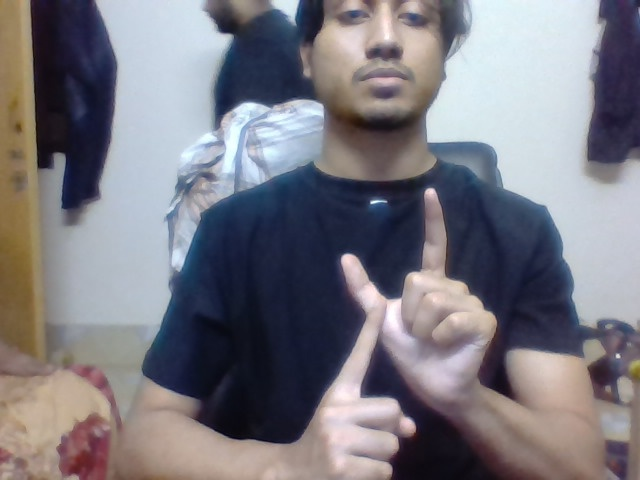Y: (332, 185, 454, 380)
